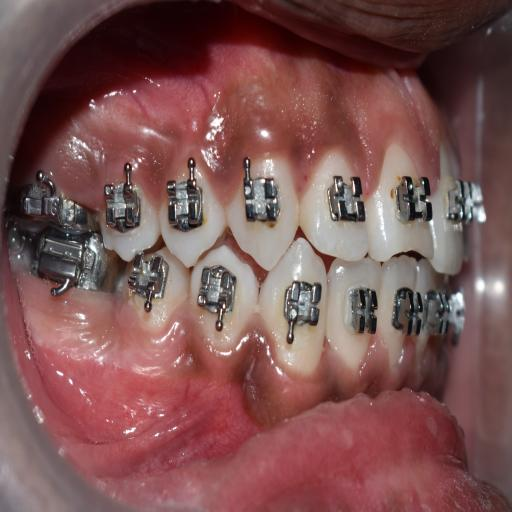correct_brace: (162, 158, 222, 274), (388, 164, 435, 230), (324, 166, 365, 225), (242, 173, 280, 231)
incorrect_brace: (306, 146, 368, 264), (163, 176, 202, 233)
